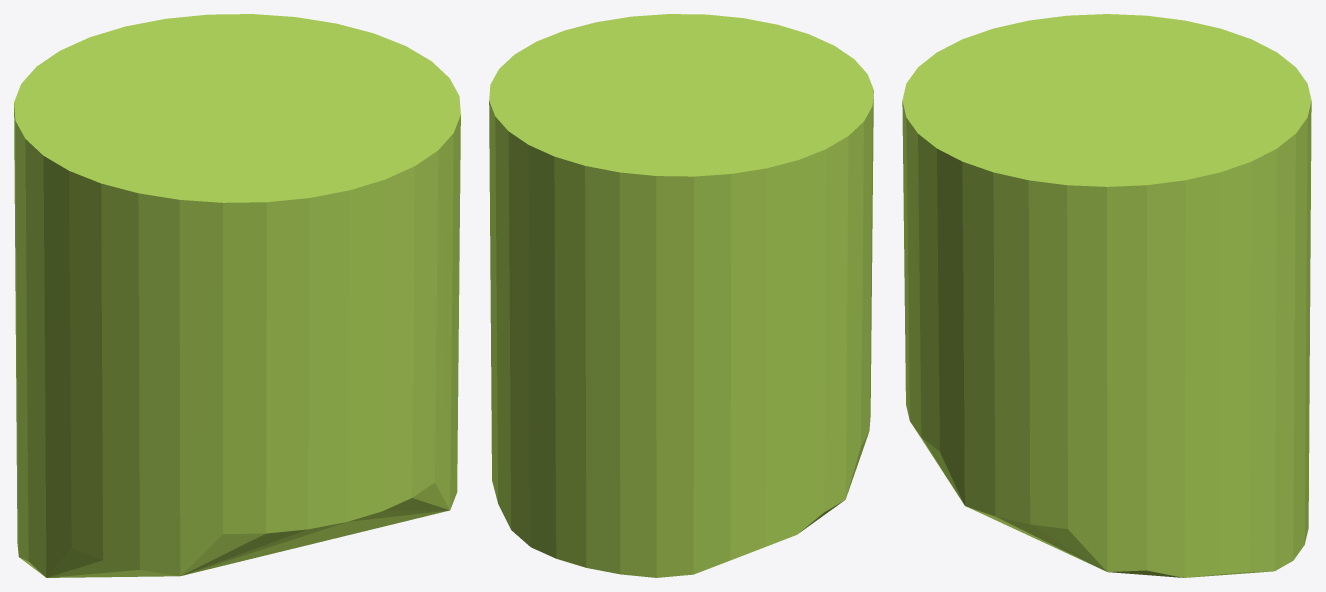
The model's file is ur10e_link_5_coll_4.dae.
3 renders of one model, left to right at view 1: azimuth 30°, elevation 25°; view 2: azimuth 150°, elevation 25°; view 3: azimuth 270°, elevation 25°, orthographic. The views are drawn at different scales.
Parts seen in each view (by area): view 1: node; view 2: node; view 3: node.
Part boxes in pixels (x1,y1,x2,y2): node: [14, 14, 460, 577]; node: [489, 14, 873, 577]; node: [902, 14, 1311, 577].
Bounding box in the file's own units: 0.09 × 0.1038 × 0.09.
